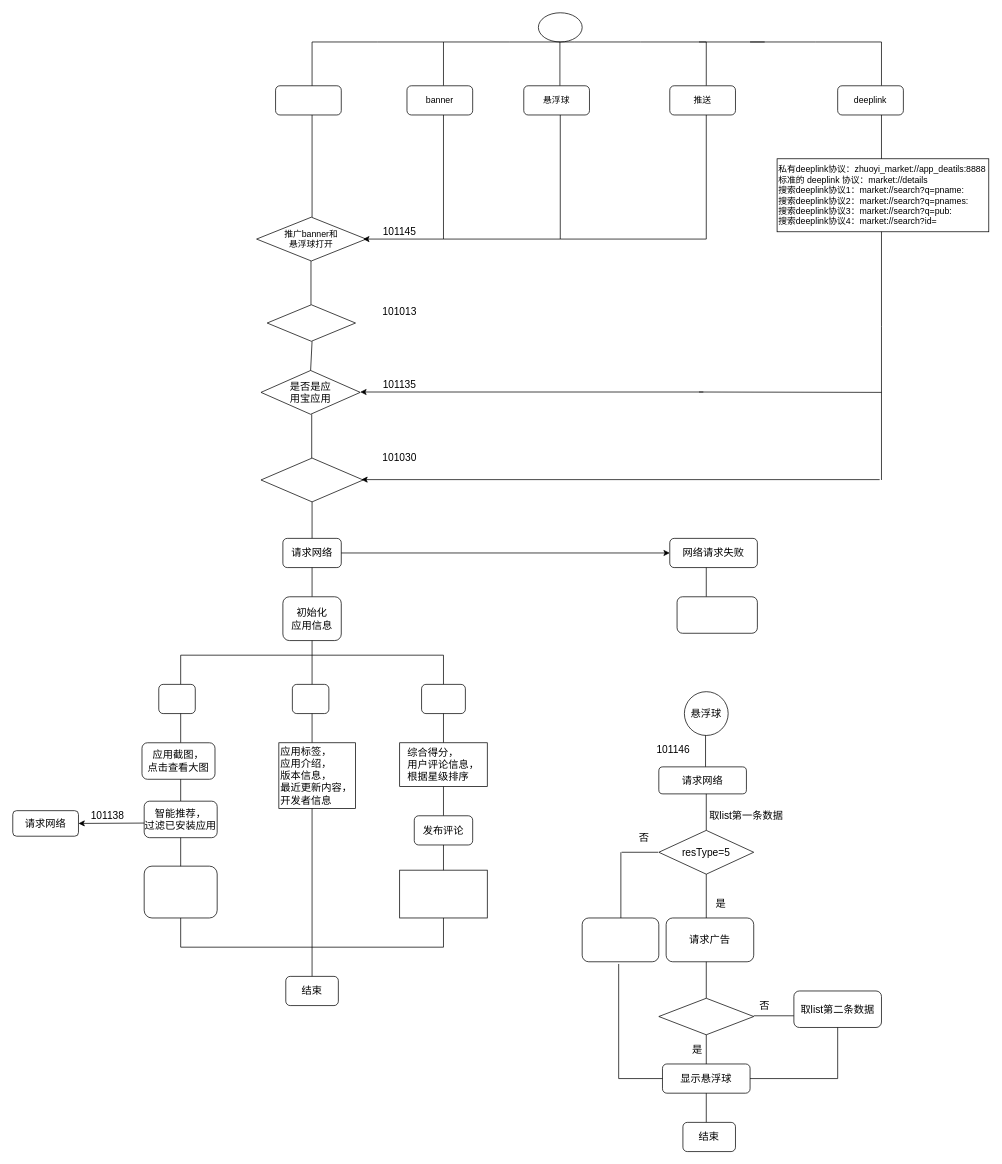
This 1002x1164 diagram has some shape labels left out. Each missing label, with the box of its shape:
介绍: (158, 684, 195, 714)
其他应用 或deeplink: (260, 457, 363, 502)
只有安装后，并且已登录的用户才可以评论: (399, 869, 487, 918)
应用: (275, 85, 341, 115)
开发者信息， 权限详情， 隐私政策， 应用举报: (143, 865, 217, 918)
成功: (658, 998, 754, 1035)
描述: (292, 684, 329, 714)
显示失败页， 可重试: (676, 596, 757, 633)
自己应用: (266, 304, 356, 341)
获取后台 配置应用: (581, 917, 659, 962)
评论: (421, 684, 465, 714)
详情页: (538, 12, 582, 42)
